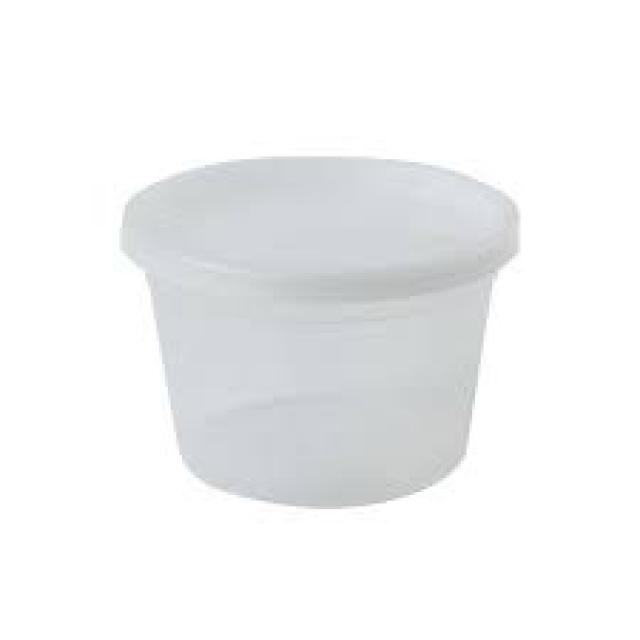disposable: (105, 141, 555, 535)
